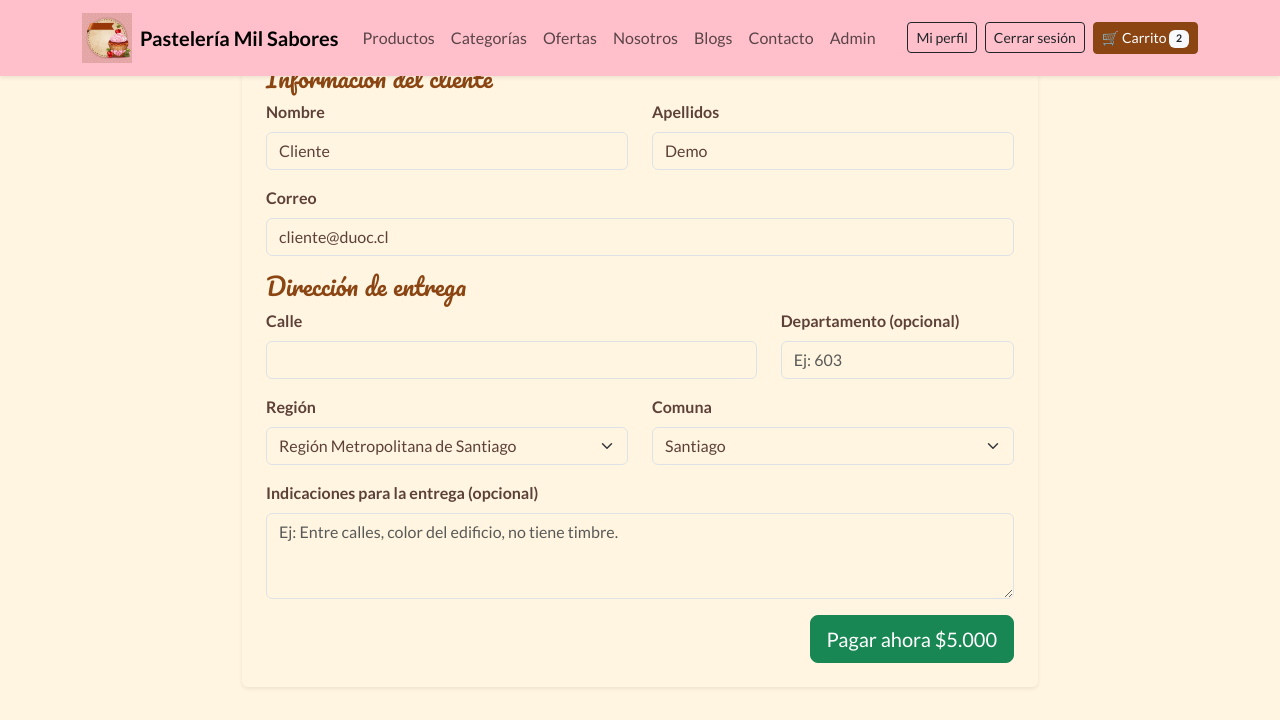
Test case: <App /> (navegación y estado compartido) › con sesión iniciada, pagar en #/checkout aplica el descuento y vacía el carrito
The image size is (1280, 720).
(page scrolled)
Type "Los Crisantemos 123" into the field labelled "Calle" at (511, 360), box [266,341,757,379]
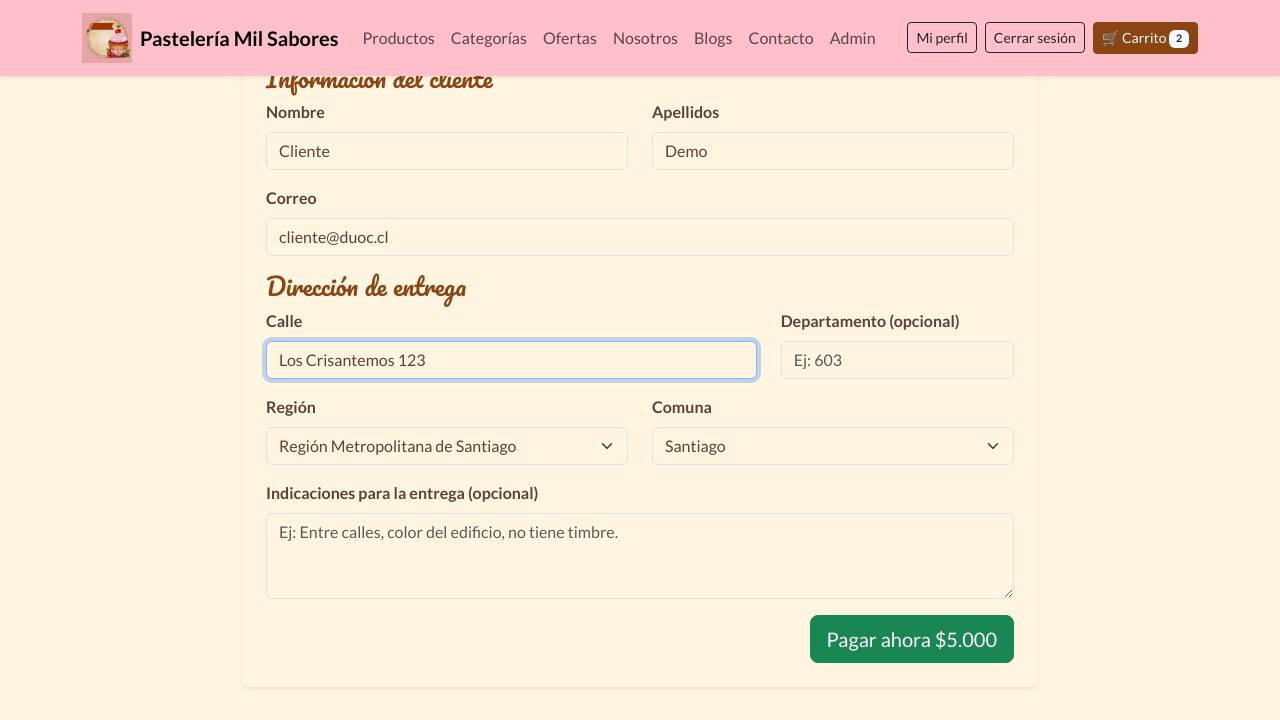
Click the button "Pagar ahora $5.000" at (912, 639), box [810,615,1014,663]
(page scrolled)
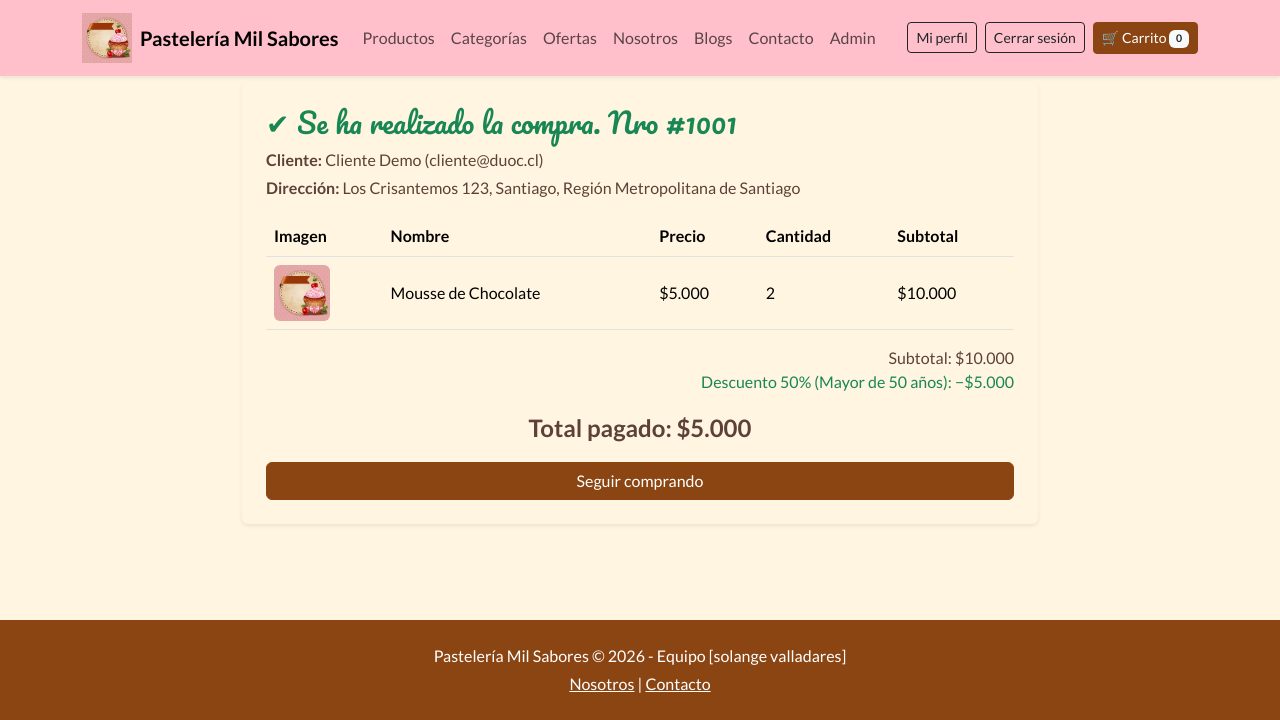
Check: the heading "✔ Se ha realizado la compra. Nro #1001" is shown, box [266,98,737,147]
Check: the button "🛒 Carrito 0" is shown, box [1093,22,1198,54]
